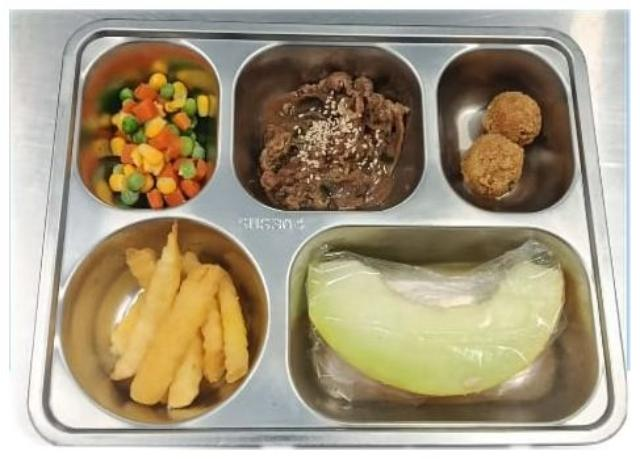ayam: (259, 71, 410, 209)
buah: (307, 240, 565, 397)
kentang: (110, 225, 249, 409)
sayur: (94, 70, 215, 209)
tahu: (460, 92, 542, 198)
